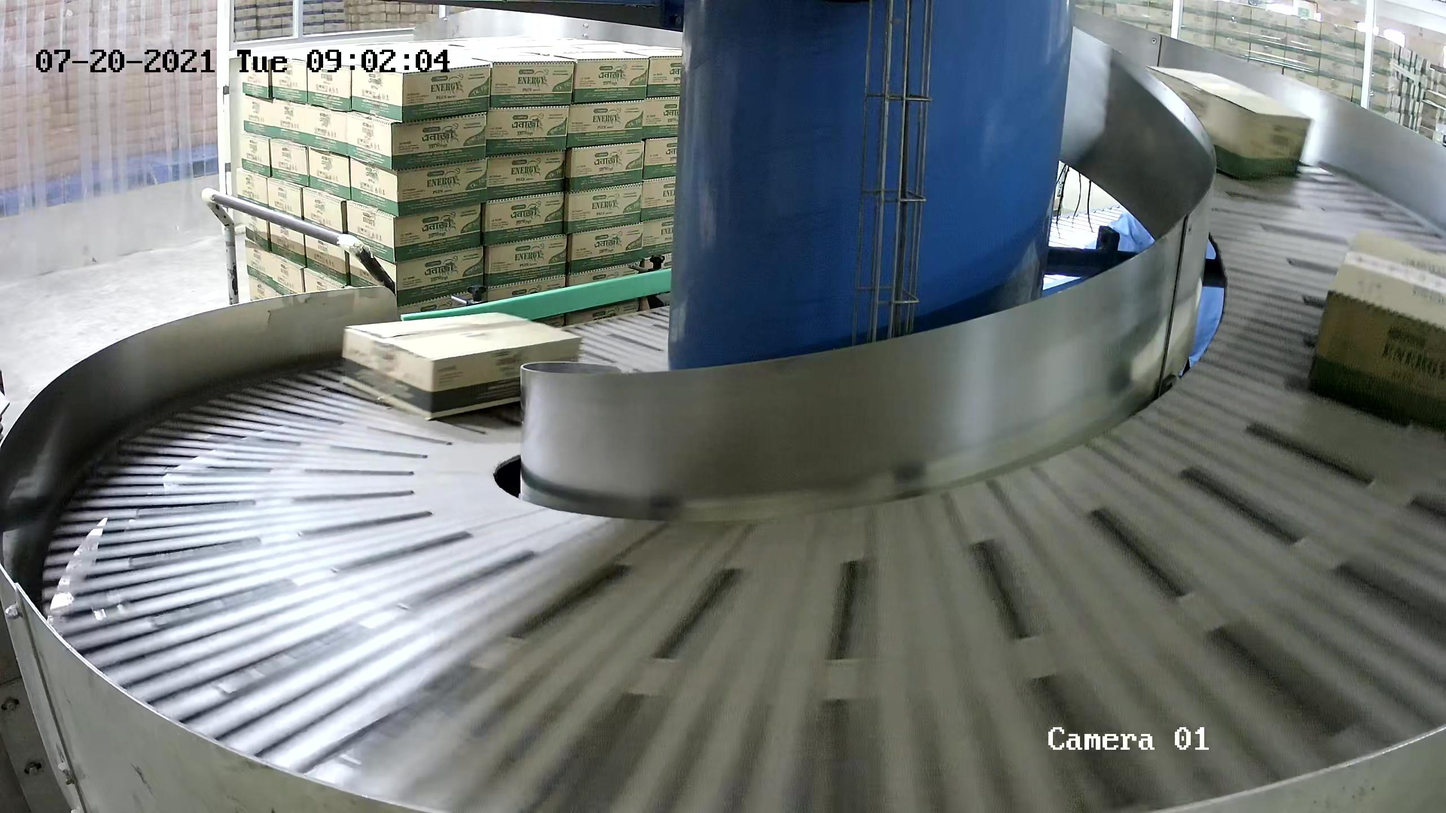Box: (1302, 224, 1446, 435), (337, 308, 586, 423), (1141, 61, 1314, 183)
